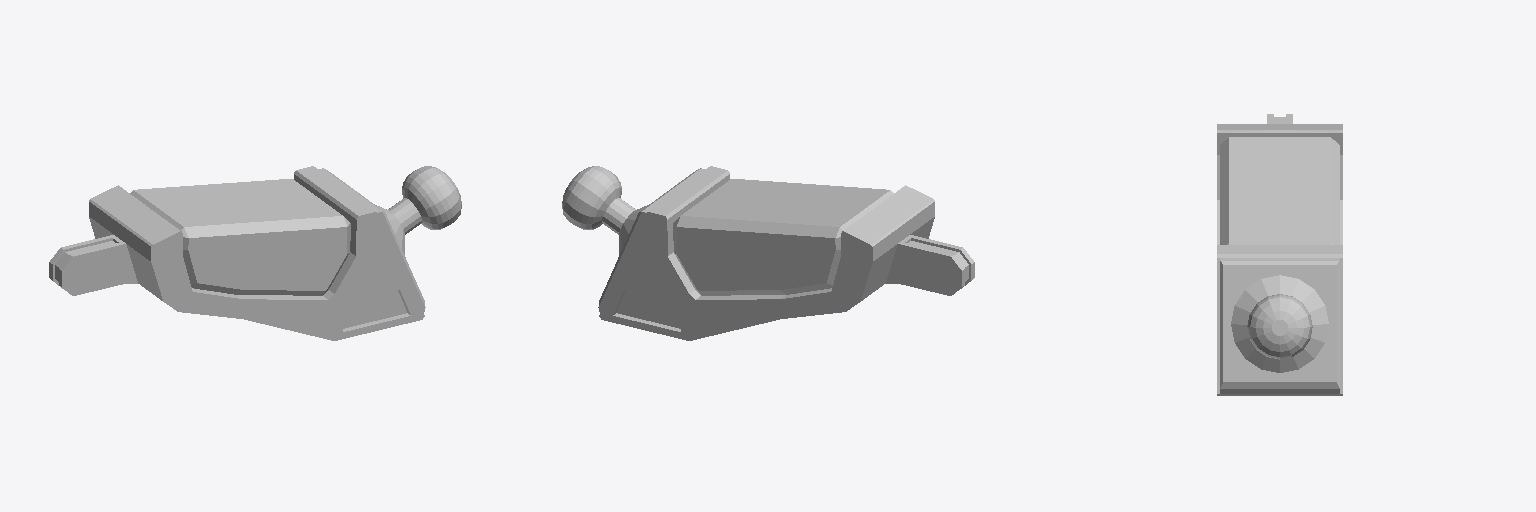
The model's file is Straw_Dog_4_left_leg.obj.
3 renders of one model, left to right at view 1: azimuth 30°, elevation 25°; view 2: azimuth 150°, elevation 25°; view 3: azimuth 270°, elevation 25°, orthographic.
Visible parts, largest first — view 1: left_leg_Cube.004; view 2: left_leg_Cube.004; view 3: left_leg_Cube.004.
Boxes of the visible parts, x1=… form: left_leg_Cube.004: x1=49, y1=166, x2=461, y2=340; left_leg_Cube.004: x1=562, y1=166, x2=974, y2=340; left_leg_Cube.004: x1=1217, y1=114, x2=1342, y2=395.
Size of the model in its own units: 5.16 by 1.82 by 1.4.